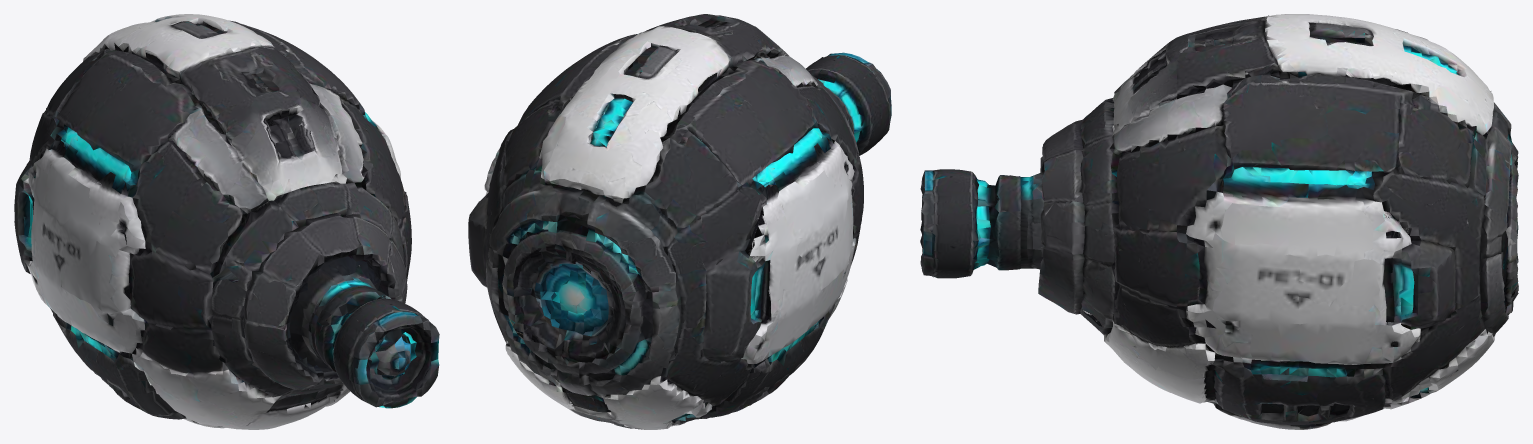
Rendered from pet1.glb.
The picture shows the model from 3 angles, left to right: view 1: azimuth 30°, elevation 25°; view 2: azimuth 150°, elevation 25°; view 3: azimuth 270°, elevation 25°; orthographic projection. The views are drawn at different scales.
Size of the model in its own units: 1.16 by 1.35 by 1.9.
1 material, 1 textured.
